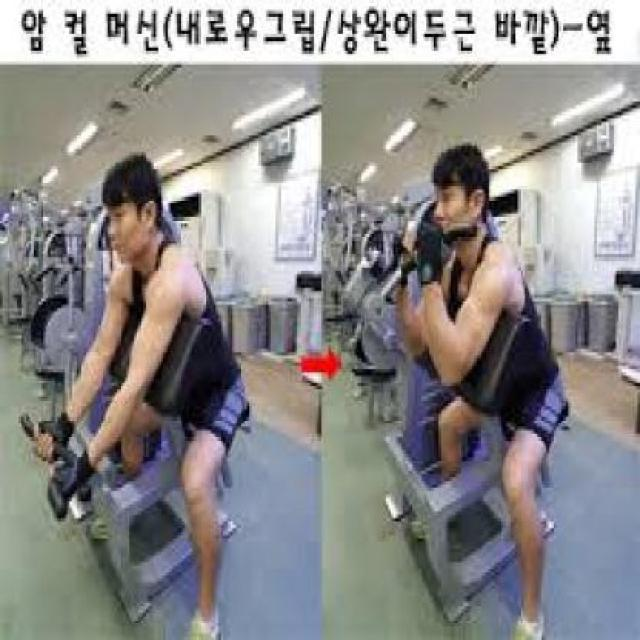arm curl machine: (380, 223, 572, 625), (18, 408, 238, 624)
